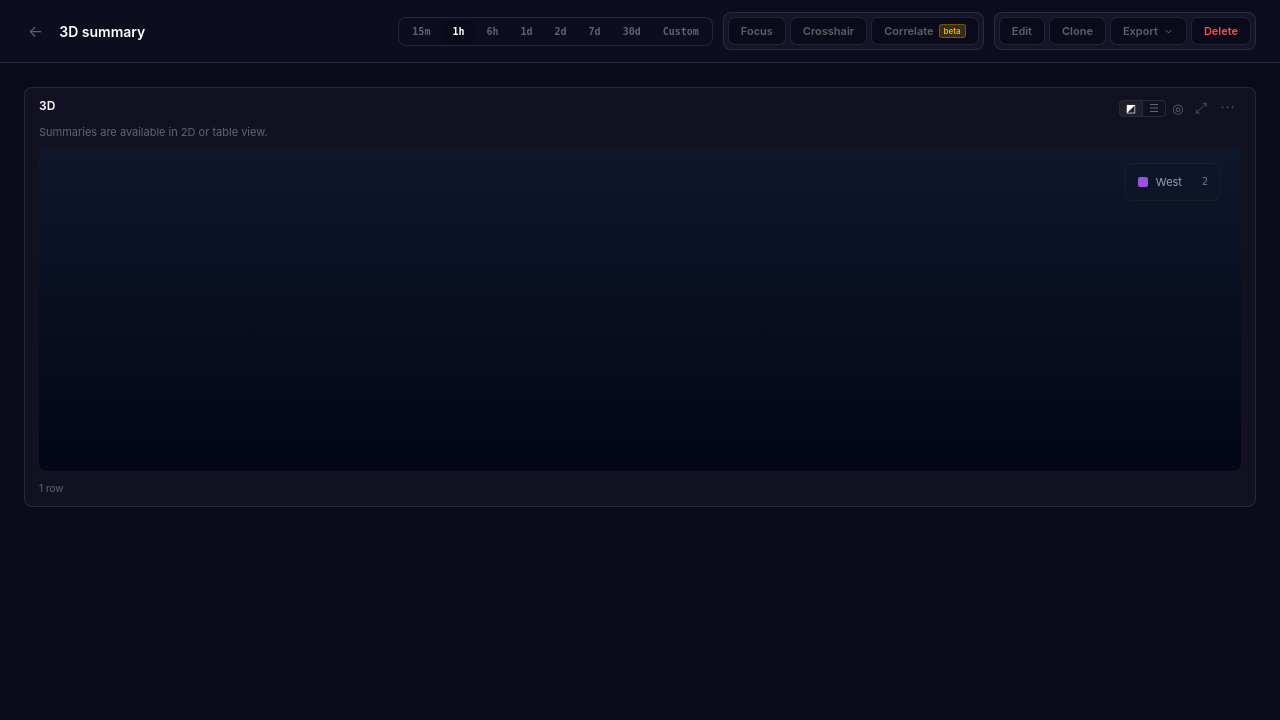
Test: DashboardViewer query version compatibility › states the 3D limitation and still shows the same result summary in table view
Check: the text "Summaries are available in 2D or table view." is shown, box [39,125,268,139]
Click the button titled "Table view" at (1154,108), box [1142,100,1165,116]
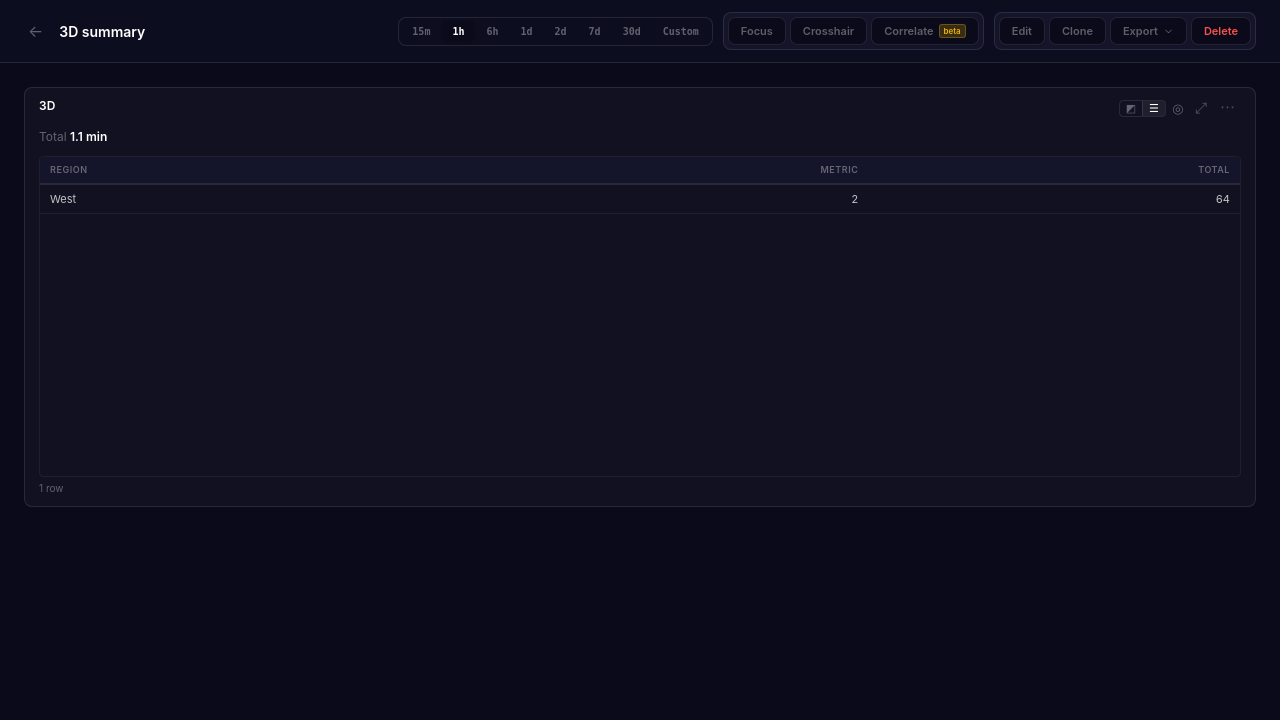
Check: the text named "Total: 64 s" is shown, box [70,129,107,144]
